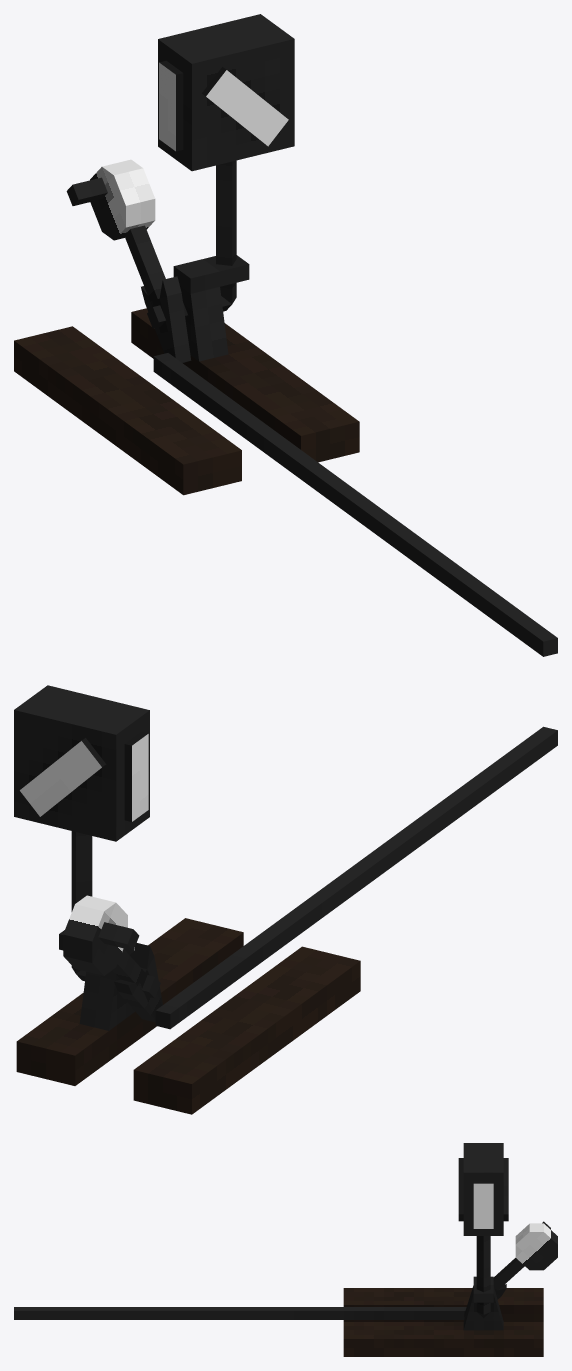
The model's file is left_side_right_turn_off.obj.
3 renders of one model, top to bottom at view 1: azimuth 30°, elevation 25°; view 2: azimuth 150°, elevation 25°; view 3: azimuth 270°, elevation 25°, orthographic. The views are drawn at different scales.
Parts seen in each view (by area): view 1: base; view 2: base; view 3: base.
Boxes of the visible parts, x1=… form: base: x1=14, y1=14, x2=557, y2=656; base: x1=14, y1=685, x2=557, y2=1114; base: x1=14, y1=1143, x2=557, y2=1356.
Size of the model in its own units: 0.9375 by 1.34 by 3.4.
1 material, 1 textured.
